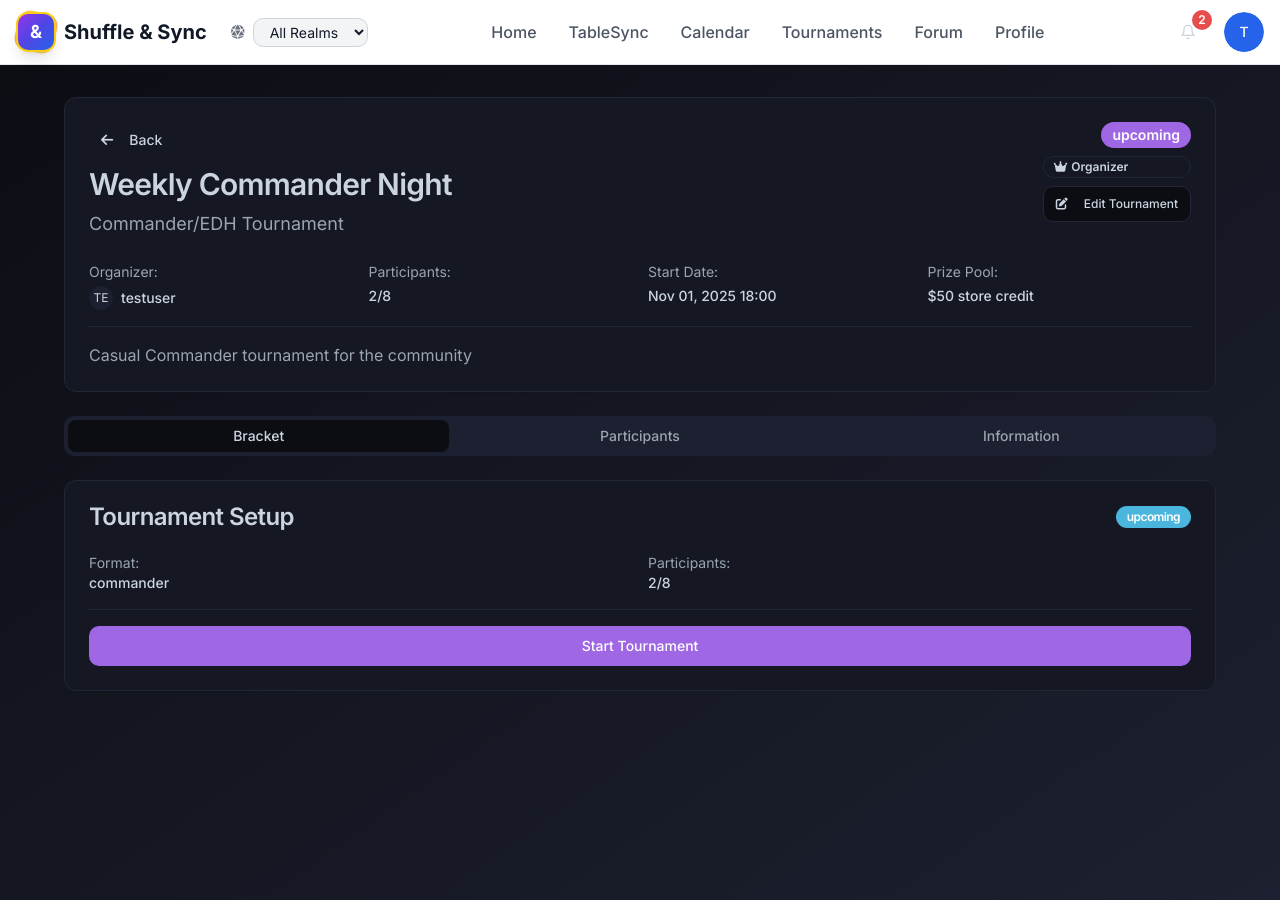
Scenario: Tournament Detail Page › Information Tab › switches to info tab
This screenshot has width=1280, height=900.
Click the tab with test id "tab-info": coordinates (1021, 436) [831, 420, 1212, 452]
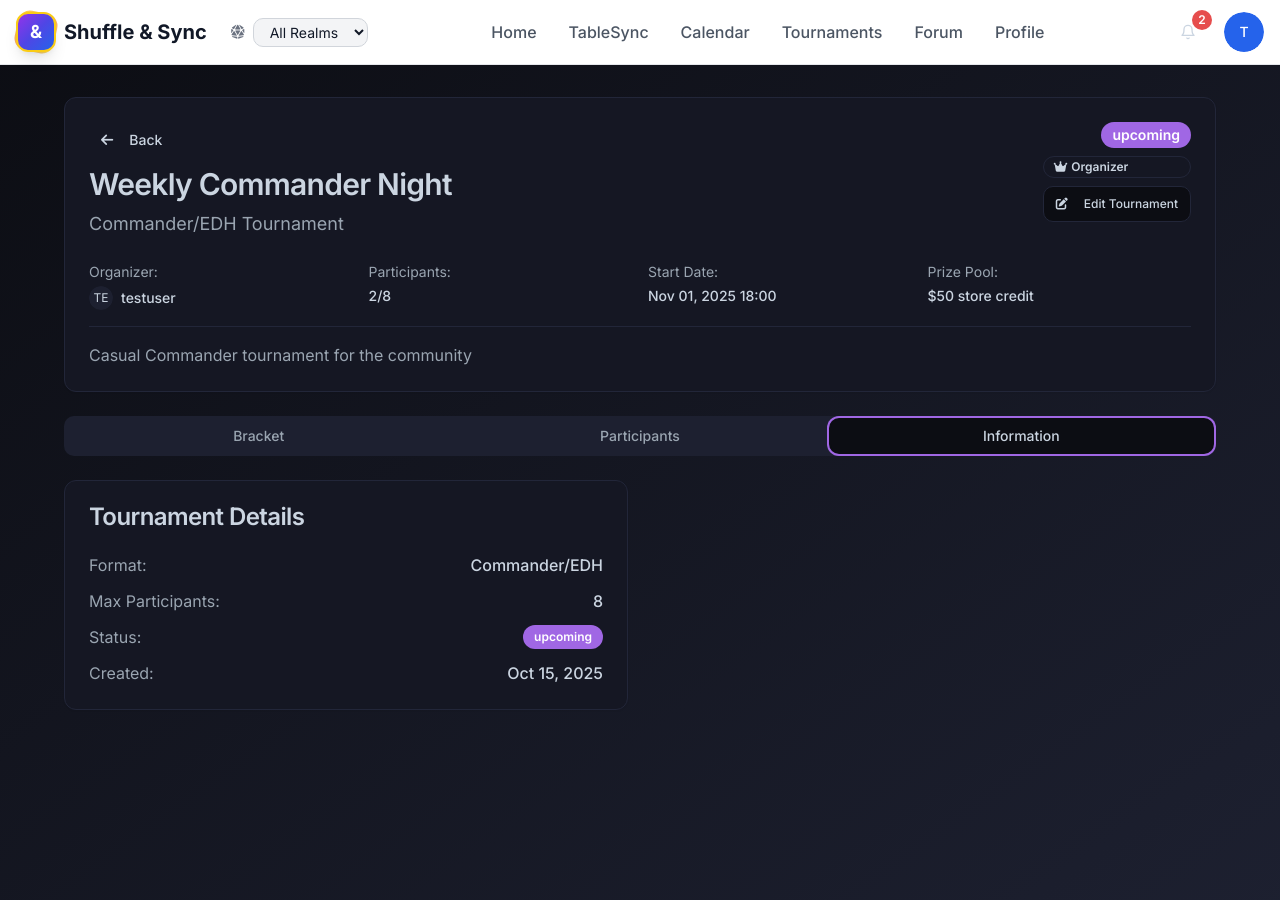
Expected: the text "Tournament Details" is shown, [89, 502, 304, 531]
